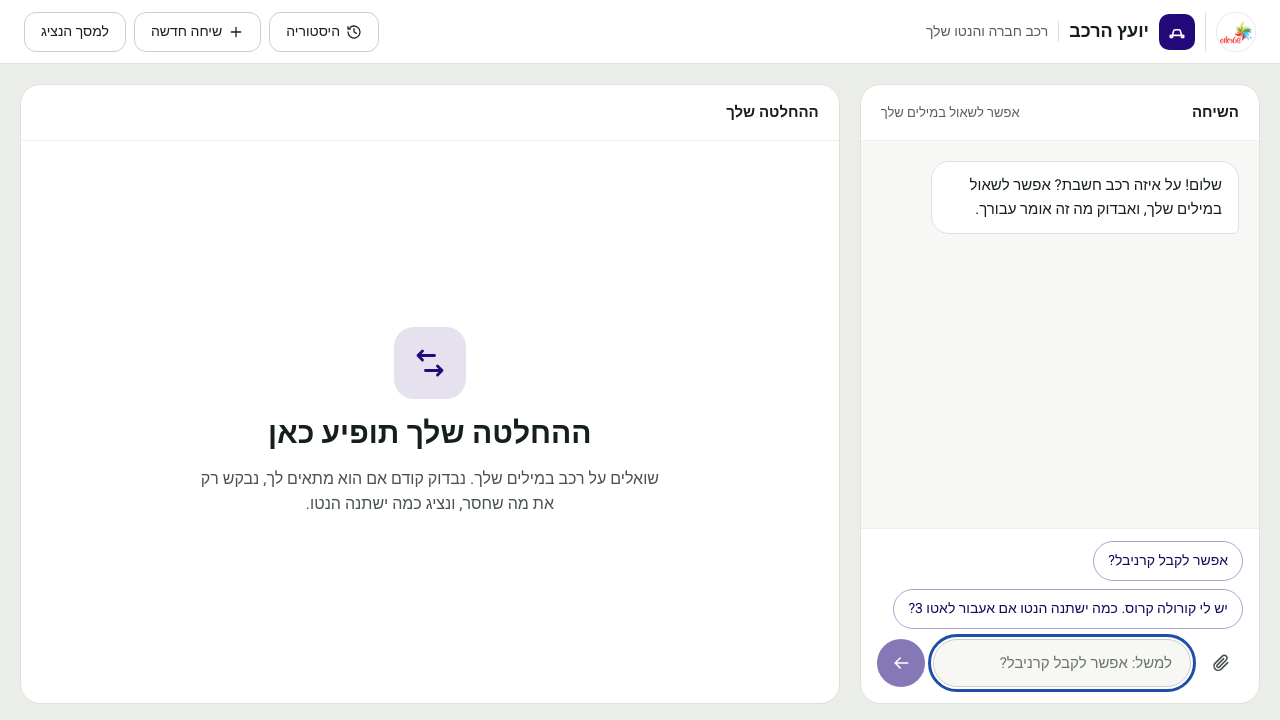
Test: history persistence › lists past conversations by title, newest first
Type "שאלה ראשונה" into the field named "הודעה ליועץ" at (1062, 663), box 933,639 -> 1191,687
Then press Enter
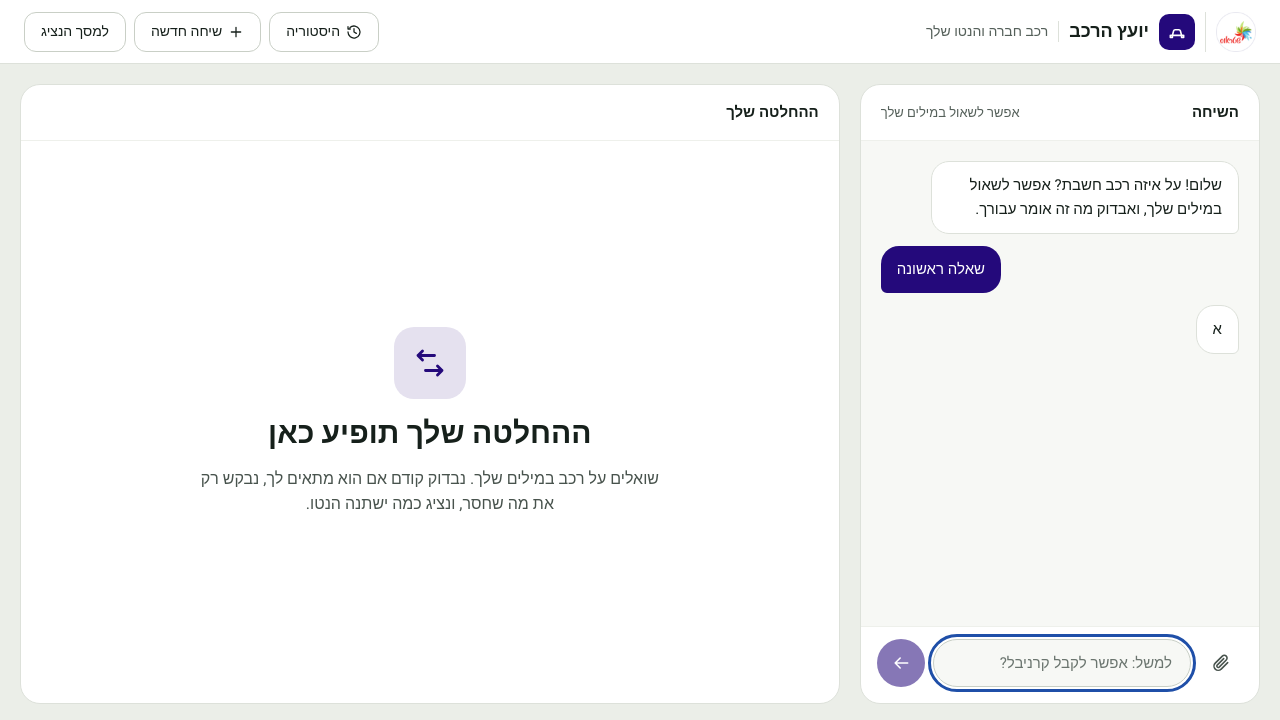
Expected: the text "א" is shown, 1213,318 -> 1222,340
Click the button "שיחה חדשה" at (198, 32), box 134,12 -> 261,52
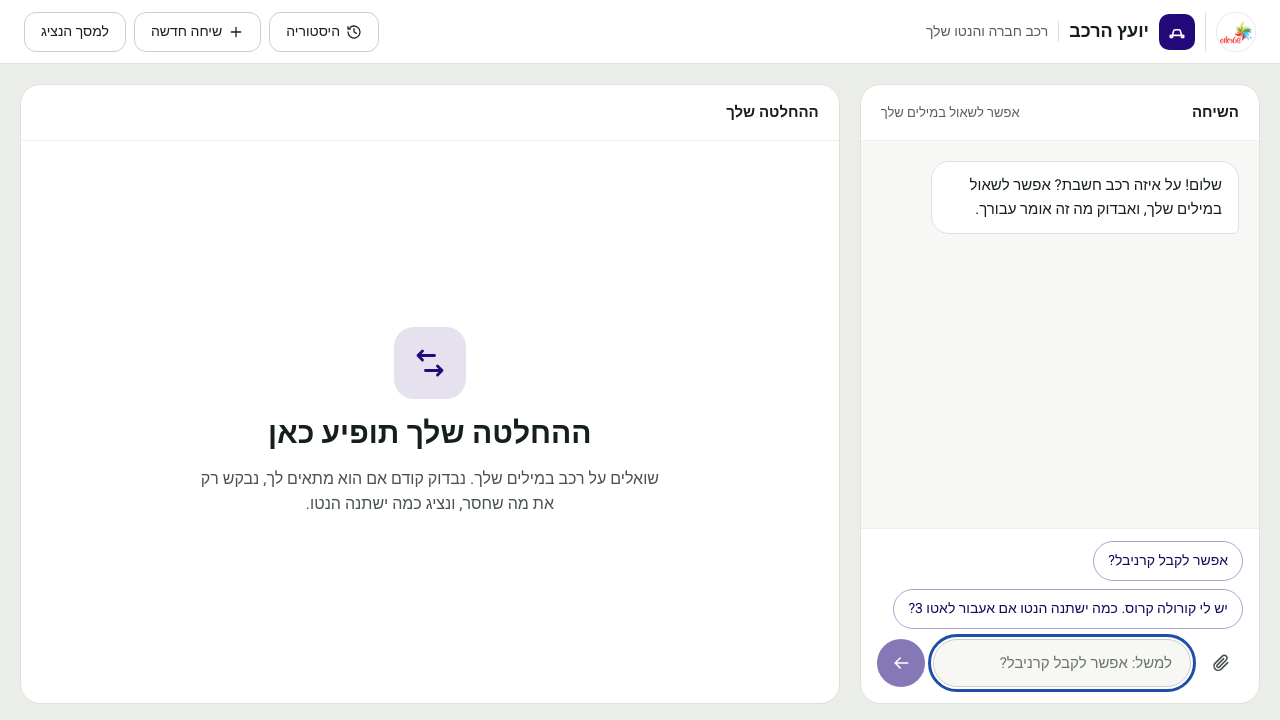
Type "שאלה שנייה" into the field named "הודעה ליועץ" at (1062, 663), box 933,639 -> 1191,687
Then press Enter
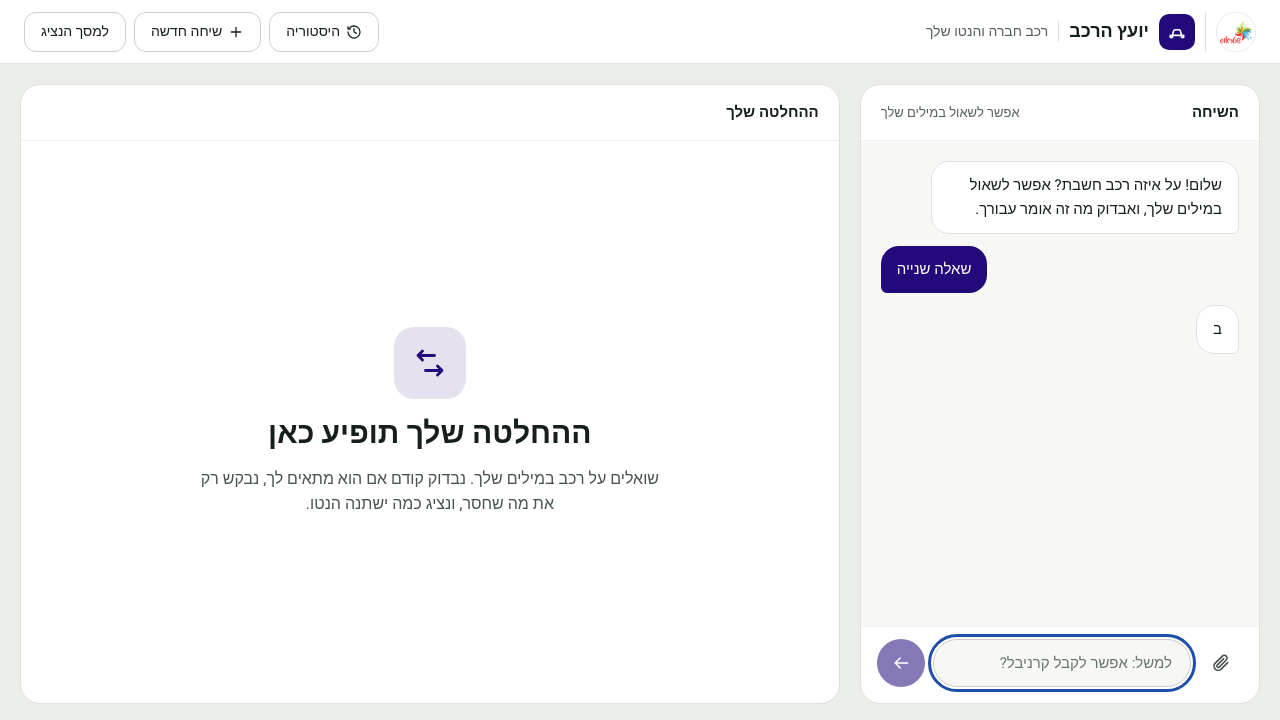
Now the text "ב" is shown, box 1213,318 -> 1222,340
Click the button "היסטוריה" at (324, 32), box 269,12 -> 379,52
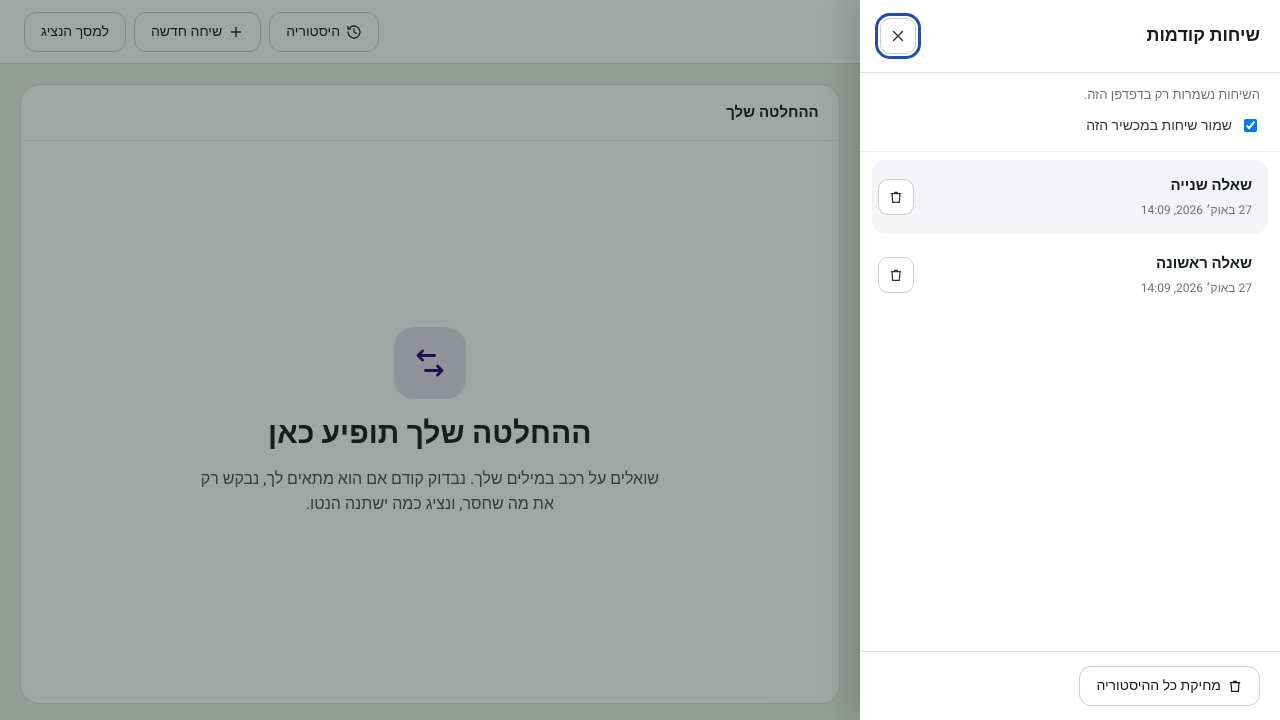
Now the elements "שאלה" read "שאלה שנייה", "שאלה ראשונה", in this order, box 1170,174 -> 1252,197; 1156,252 -> 1252,275
